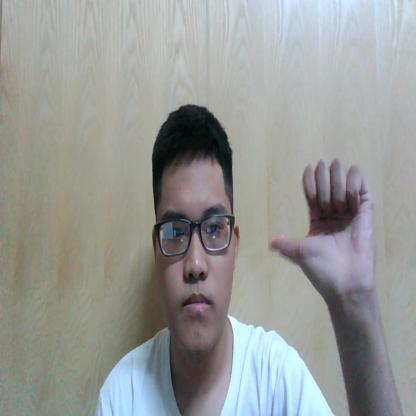right: (268, 159, 380, 286)
